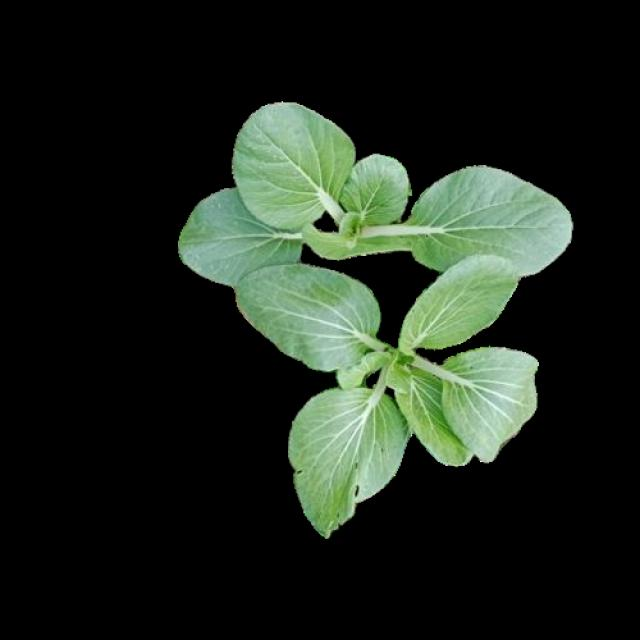healthy: (180, 99, 568, 279)
not-mature: (234, 255, 539, 536), (182, 101, 571, 282)
unhealthy: (290, 392, 402, 535)
